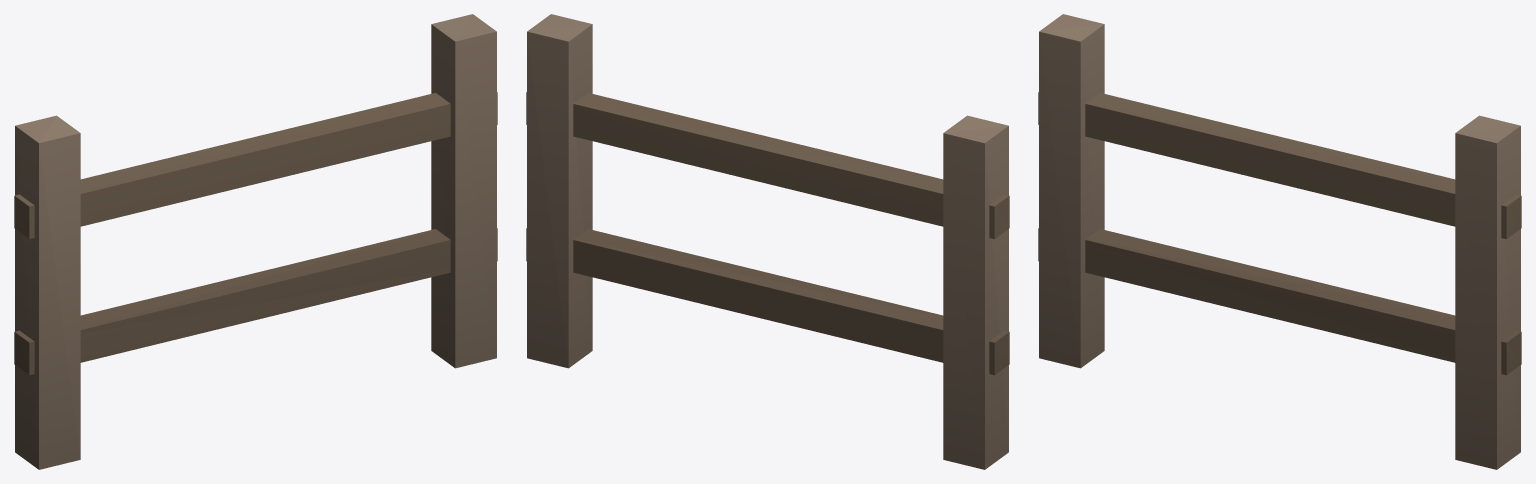
File: fence.glb
The picture shows the model from 3 angles, left to right: view 1: azimuth 30°, elevation 25°; view 2: azimuth 150°, elevation 25°; view 3: azimuth 330°, elevation 25°; orthographic projection.
Visible parts, largest first — view 1: fence; view 2: fence; view 3: fence.
Part boxes in pixels (x1,y1,x2,y2): fence: (14,14,497,469); fence: (526,14,1009,469); fence: (1038,14,1521,469).
Bounding box in the file's own units: 0.9 × 0.6 × 0.08.
